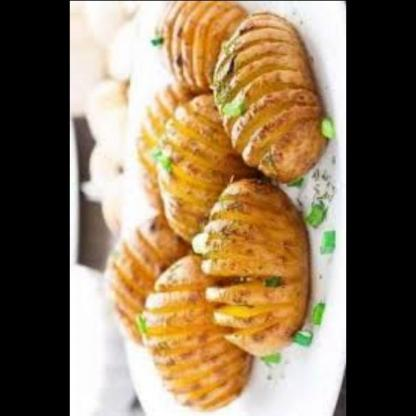potato: (201, 172, 314, 363), (211, 8, 328, 188), (133, 245, 246, 416), (152, 83, 233, 255), (101, 213, 181, 355), (132, 82, 203, 218), (149, 0, 241, 93)
